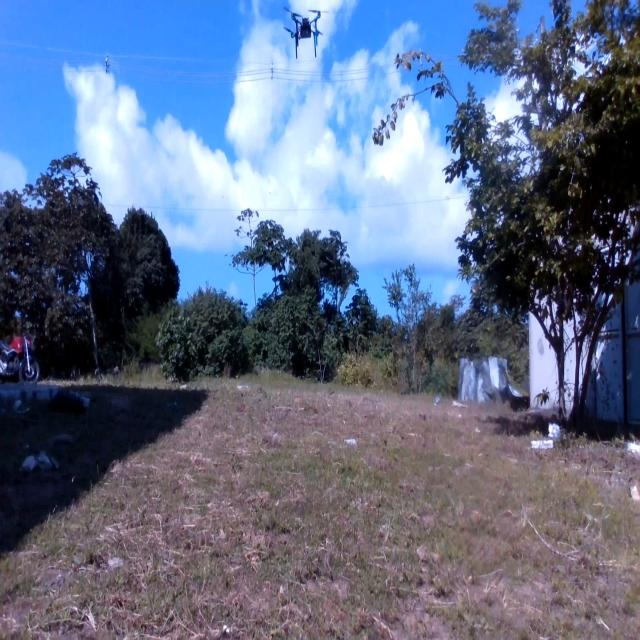-uav-: (275, 3, 330, 68)
